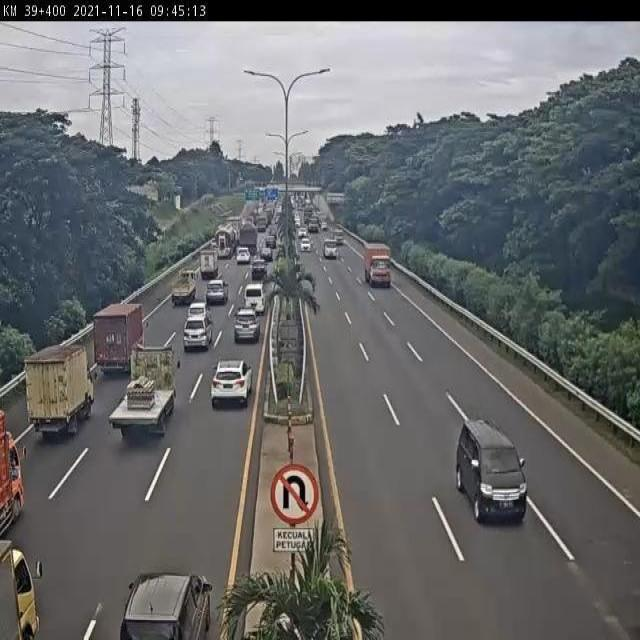Car: (455, 417, 529, 523), (119, 570, 212, 640), (210, 359, 253, 408), (183, 310, 214, 350), (233, 306, 261, 342), (206, 278, 228, 306), (186, 302, 211, 326), (251, 256, 267, 279), (236, 246, 250, 265), (260, 245, 273, 262), (265, 232, 277, 249), (300, 237, 311, 252), (308, 218, 319, 233), (298, 227, 308, 239), (294, 215, 300, 228), (321, 221, 328, 231)
Truck: (23, 344, 98, 439), (106, 344, 182, 437), (0, 530, 46, 640), (91, 301, 150, 377), (0, 407, 29, 543), (362, 242, 392, 287), (170, 268, 199, 306), (215, 224, 237, 260), (238, 220, 258, 254), (198, 248, 218, 280), (226, 216, 242, 237), (323, 239, 339, 260), (256, 214, 268, 233), (333, 229, 345, 246), (304, 204, 314, 224), (264, 207, 272, 225)
Van: (243, 282, 266, 316)
